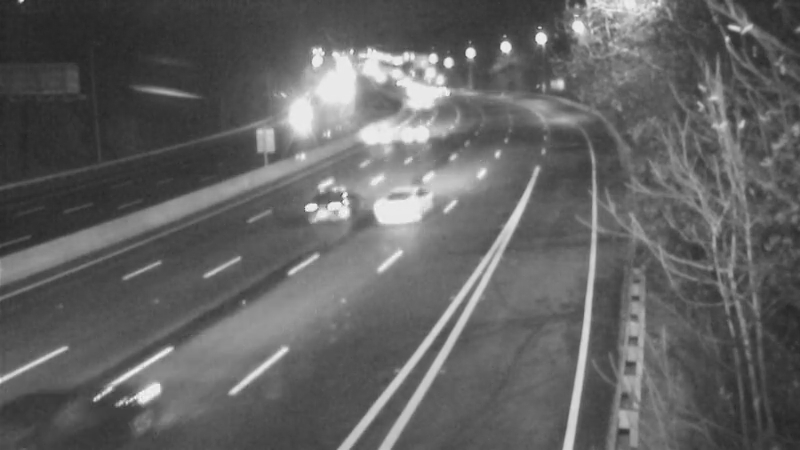vehicle: (1, 357, 109, 450), (284, 163, 364, 243), (370, 152, 450, 232), (385, 112, 435, 162), (351, 109, 401, 159), (278, 94, 328, 144)
